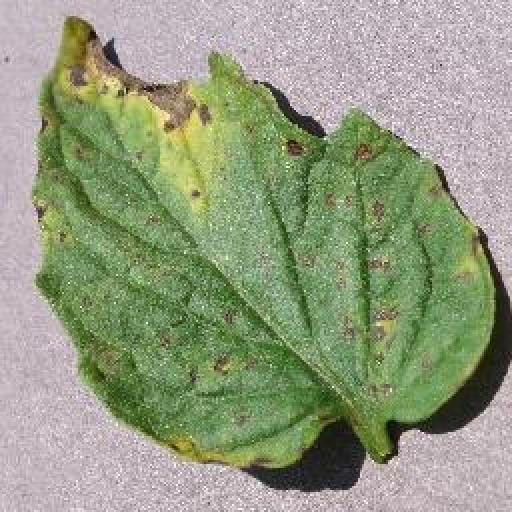Septoria: (38, 14, 496, 470)
